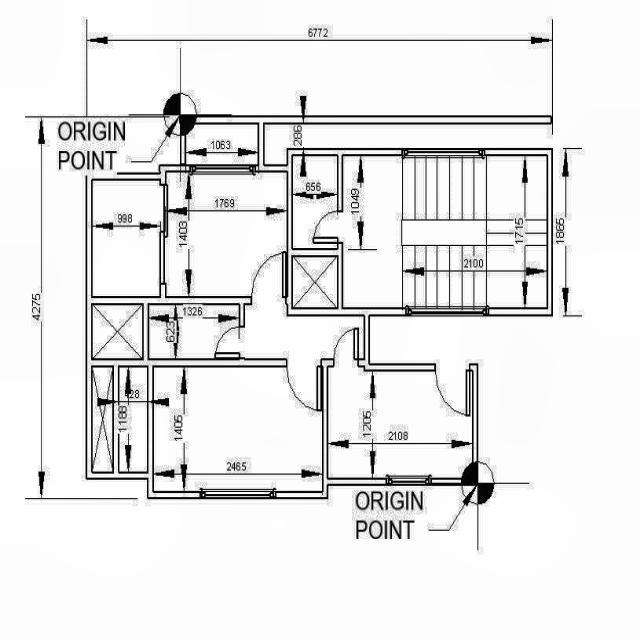Column: (180, 114, 187, 136), (461, 478, 478, 486), (186, 114, 196, 125), (472, 462, 478, 478)
Door: (434, 363, 474, 418), (250, 250, 288, 306), (286, 358, 324, 413), (326, 324, 366, 368), (213, 326, 246, 360), (312, 210, 338, 250)
Sliding Door: (159, 184, 168, 298)
Staircase: (343, 156, 547, 307)
Window: (199, 488, 277, 499), (406, 307, 490, 317), (189, 164, 256, 176), (402, 148, 485, 156), (386, 474, 432, 486)
